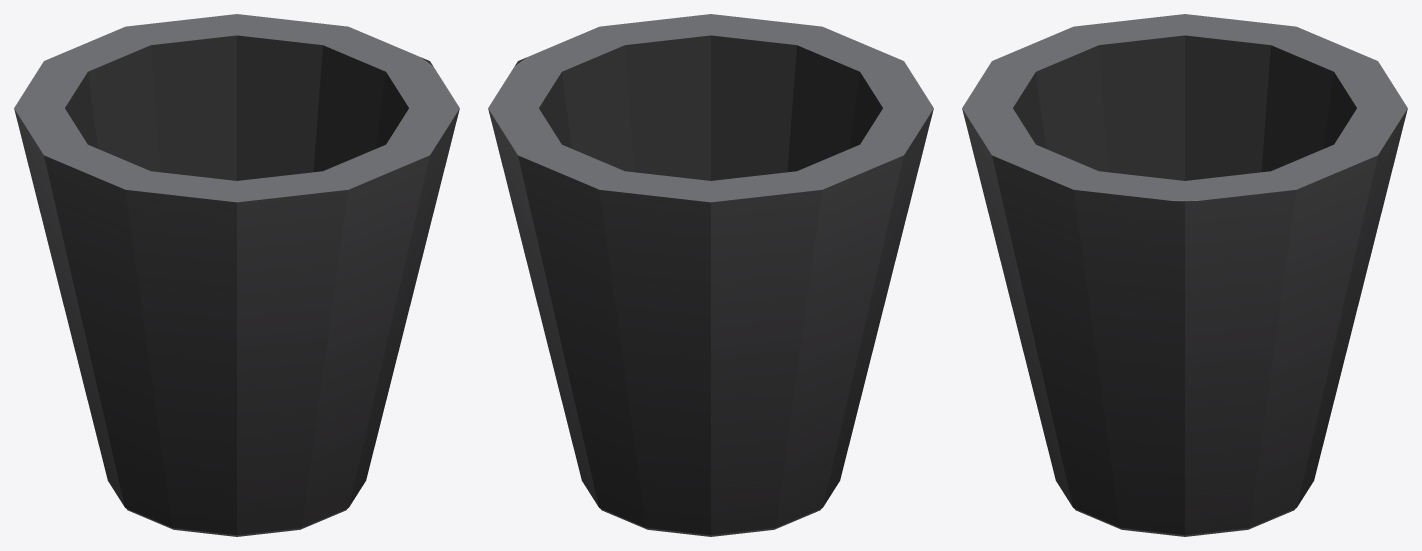
Rendered from tachocontextura.fbx.
3 renders of one model, left to right at view 1: azimuth 30°, elevation 25°; view 2: azimuth 150°, elevation 25°; view 3: azimuth 270°, elevation 25°, orthographic.
Parts seen in each view (by area): view 1: pPipe1; view 2: pPipe1; view 3: pPipe1.
Boxes of the visible parts, x1,y1,x2,y2 form: pPipe1: (14, 14, 459, 536); pPipe1: (488, 14, 933, 536); pPipe1: (962, 14, 1407, 536).
Bounding box in the file's own units: 157 × 146 × 157.
1 material, 1 textured.
